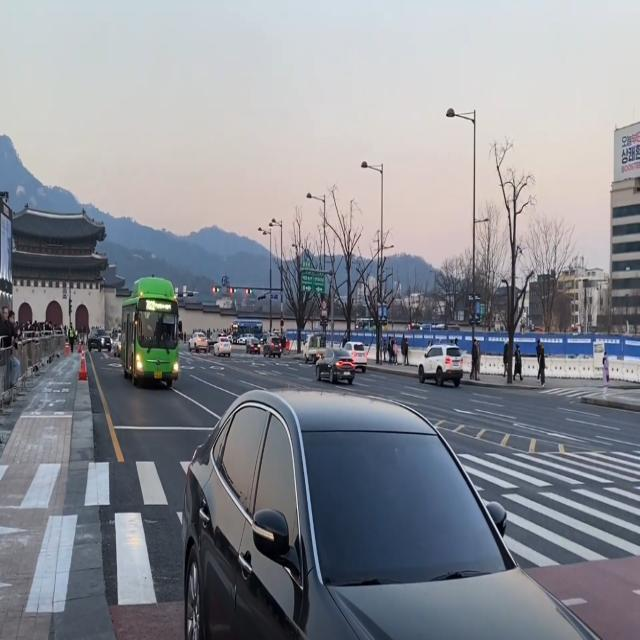bus-number: (146, 299, 155, 311)
